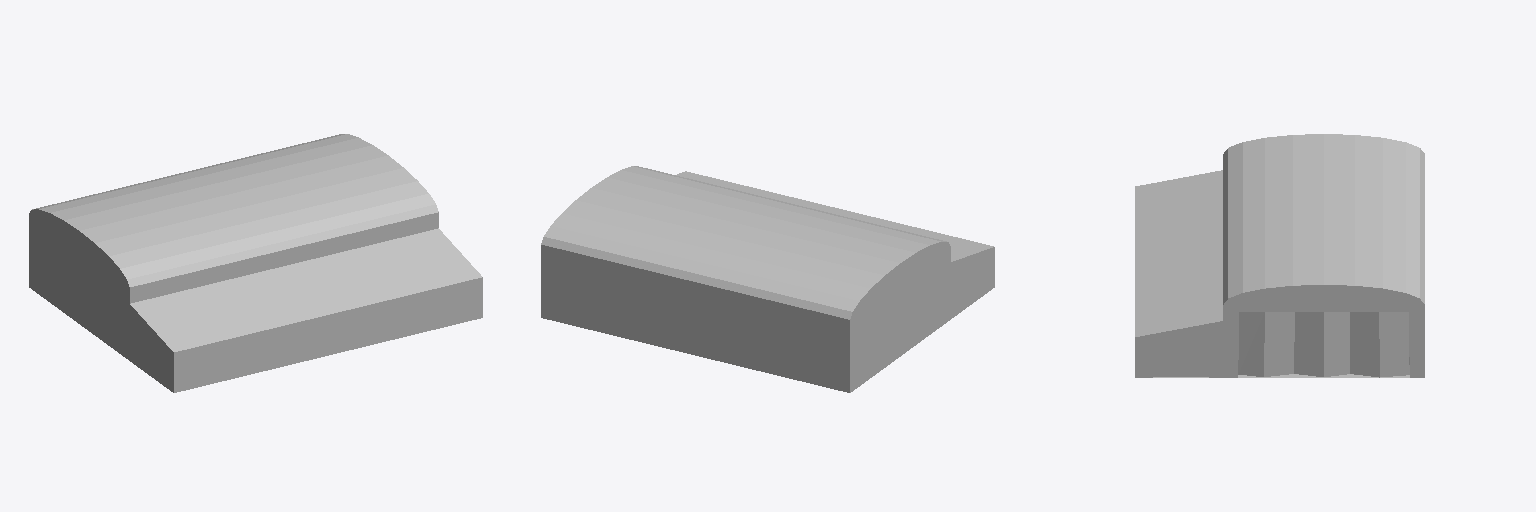
The model's file is Hangar.obj.
The picture shows the model from 3 angles: view 1: azimuth 30°, elevation 25°; view 2: azimuth 150°, elevation 25°; view 3: azimuth 270°, elevation 25°; orthographic projection.
Parts seen in each view (by area): view 1: pCylinder1; view 2: pCylinder1; view 3: pCylinder1.
Part boxes in pixels (left/top/right/bottom): pCylinder1: left=29, top=134, right=482, bottom=392; pCylinder1: left=541, top=166, right=994, bottom=392; pCylinder1: left=1135, top=134, right=1424, bottom=377.
Size of the model in its own units: 43.57 by 12.57 by 35.34.